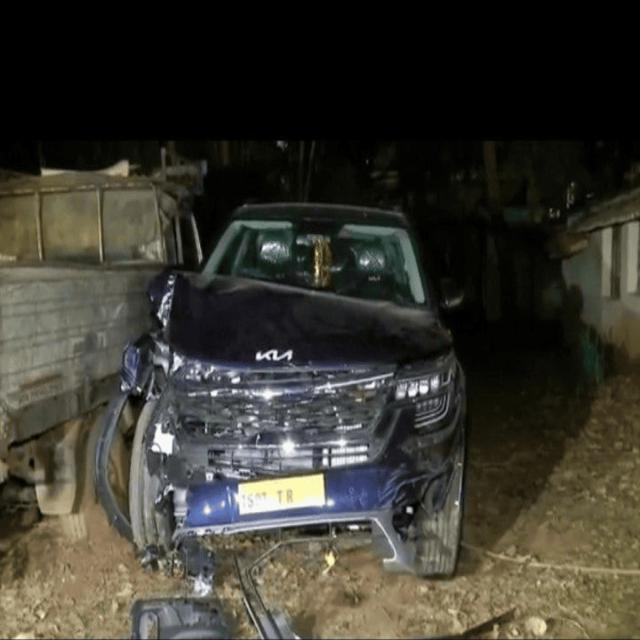accident: (89, 203, 469, 599)
